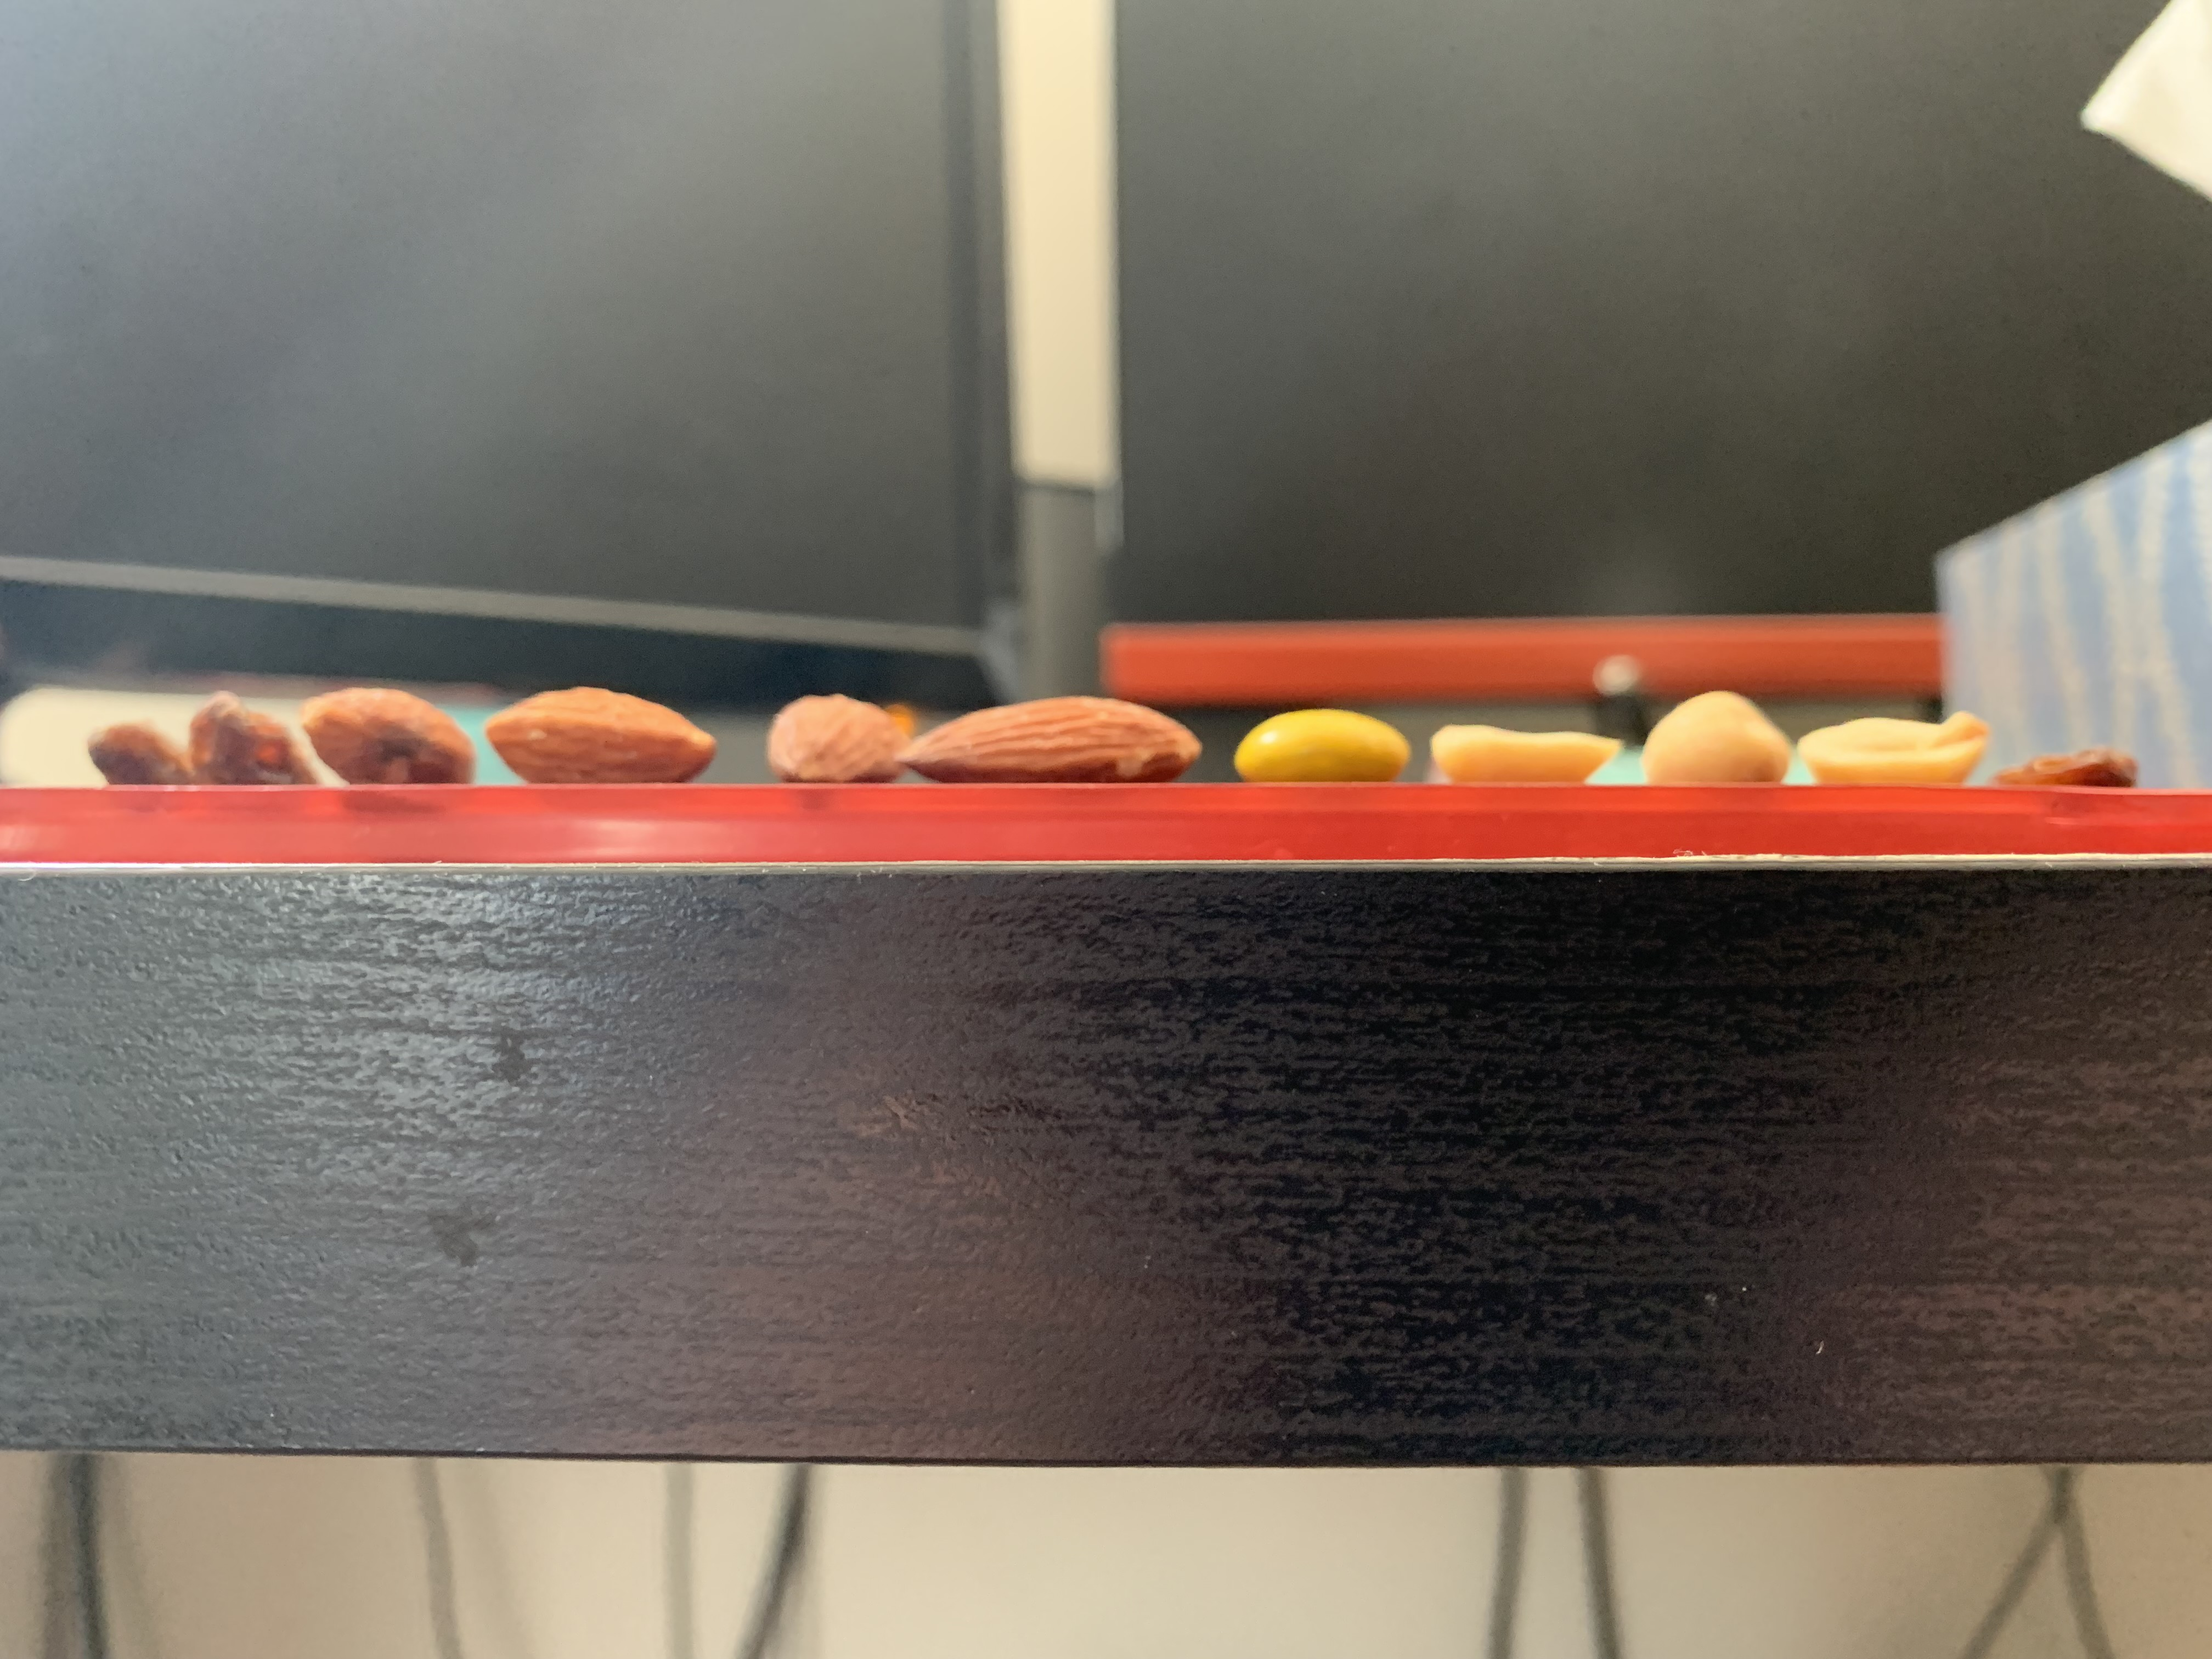almond: (892, 694, 1205, 784), (482, 685, 719, 791), (300, 685, 477, 786), (765, 690, 914, 788)
mm: (1233, 706, 1411, 788)
peanut: (1796, 708, 1993, 786), (1639, 688, 1792, 786), (1430, 720, 1625, 786)
raisin: (185, 688, 322, 786), (85, 723, 195, 791), (1989, 746, 2139, 791)
